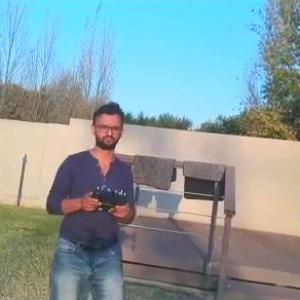follow: (40, 98, 141, 299)
